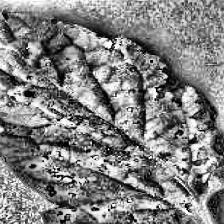disease: (0, 2, 224, 224)
